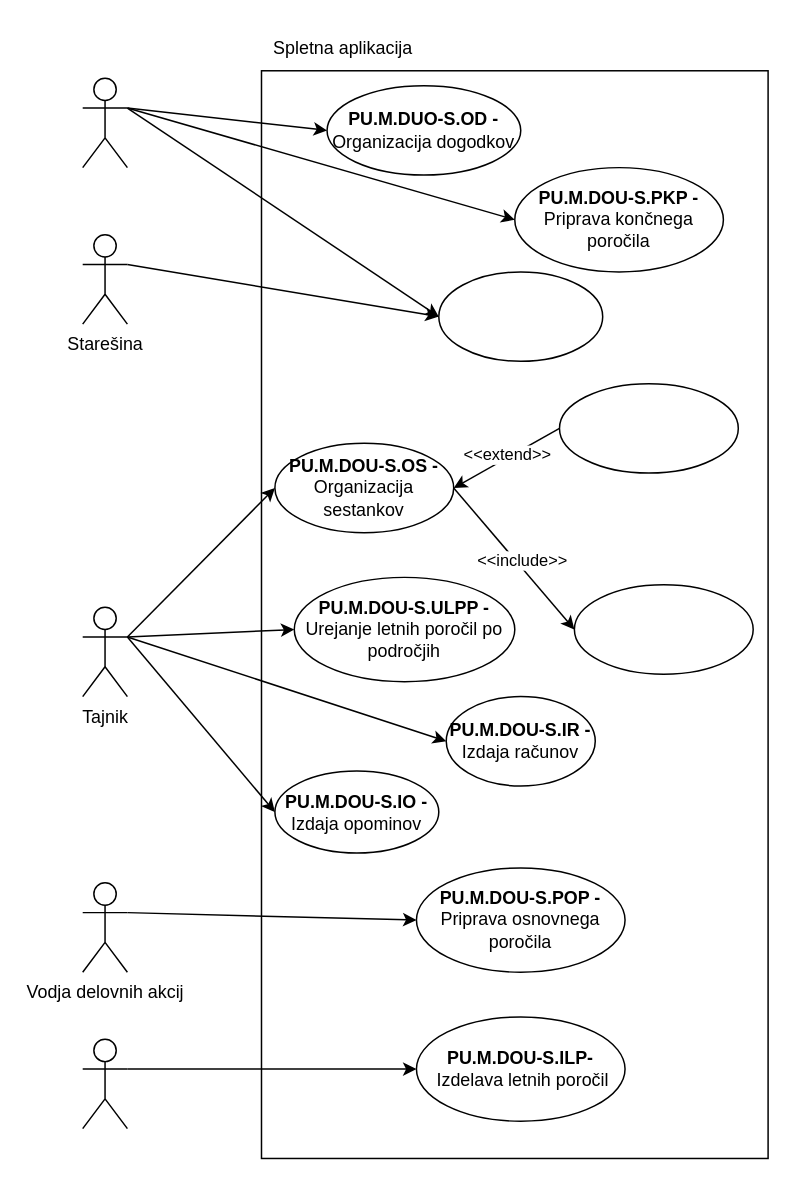
The diagram is 794 pixels wide and 1185 high, and some of its shapes have lost their labels. Each missing label, with the centre of its shape:
Gospodar: pixel 104 122
Predsednik komisije: pixel 104 1083
PU.M.DOU-S.BS - Beleženje sklepov: pixel 648 427
PU.M.DOU-S.DN - Dodelitev nalog: pixel 520 315
PU.TM.OBV.PO - Pošiljanje obvestil: pixel 663 628
